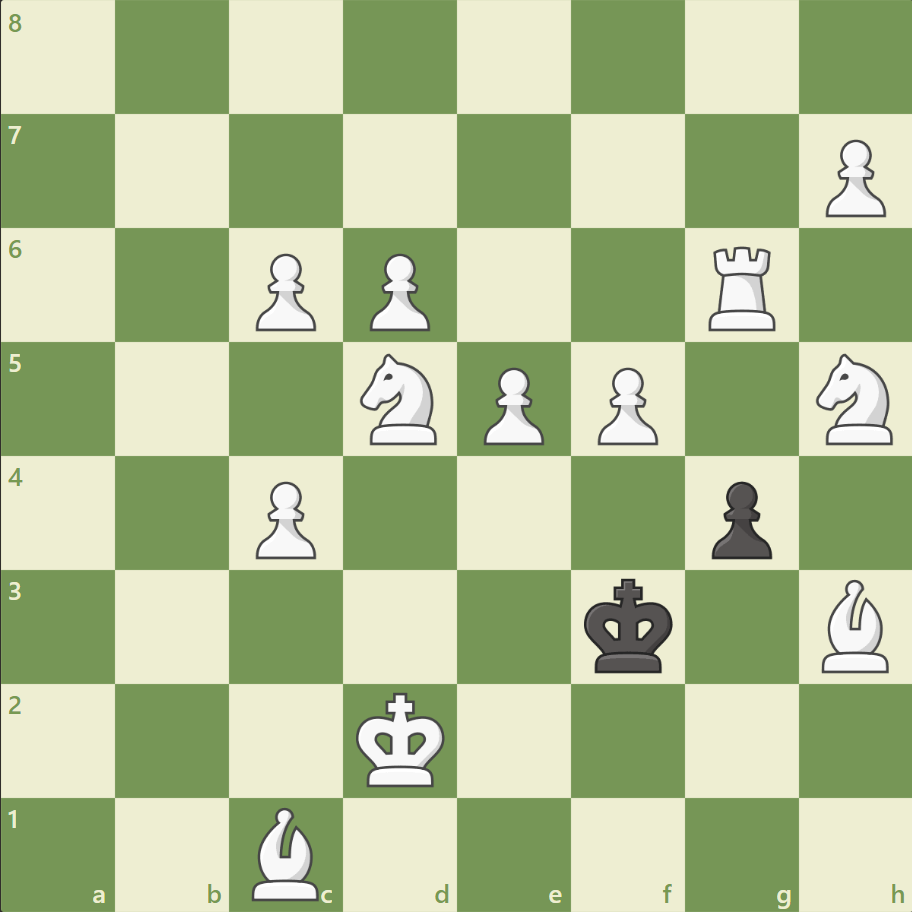B: (244, 801, 328, 904), (812, 574, 896, 676)
K: (351, 685, 451, 793)
N: (351, 348, 449, 450), (806, 348, 903, 450)
P: (247, 246, 322, 337), (474, 359, 549, 450), (247, 473, 322, 564), (815, 132, 889, 223), (361, 246, 435, 337), (588, 359, 662, 450)
R: (700, 239, 783, 336)
k: (579, 571, 679, 679)
p: (701, 473, 776, 564)
